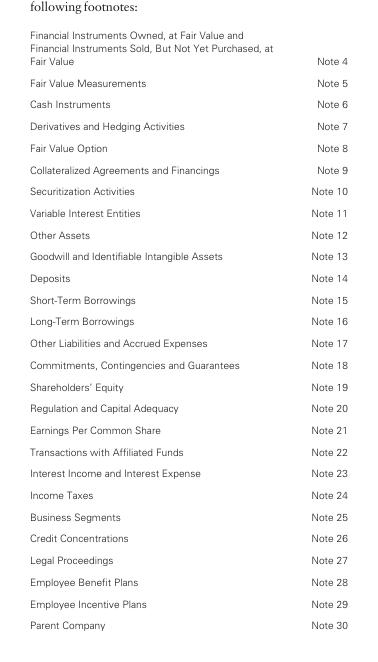table: (28, 28, 346, 630)
table column: (28, 28, 291, 630), (291, 28, 346, 630)
table row: (28, 28, 346, 71), (28, 92, 346, 114), (28, 114, 346, 136), (28, 136, 346, 158), (28, 179, 346, 201), (28, 201, 346, 223), (28, 244, 346, 266), (28, 266, 346, 288), (28, 309, 346, 331), (28, 331, 346, 353), (28, 353, 346, 375), (28, 396, 346, 418), (28, 418, 346, 440), (28, 461, 346, 483), (28, 483, 346, 505), (28, 526, 346, 548), (28, 548, 346, 570), (28, 570, 346, 592), (28, 71, 346, 92), (28, 158, 346, 179), (28, 223, 346, 244), (28, 288, 346, 309), (28, 375, 346, 396), (28, 440, 346, 461), (28, 505, 346, 526), (28, 592, 346, 613), (28, 613, 346, 630)
